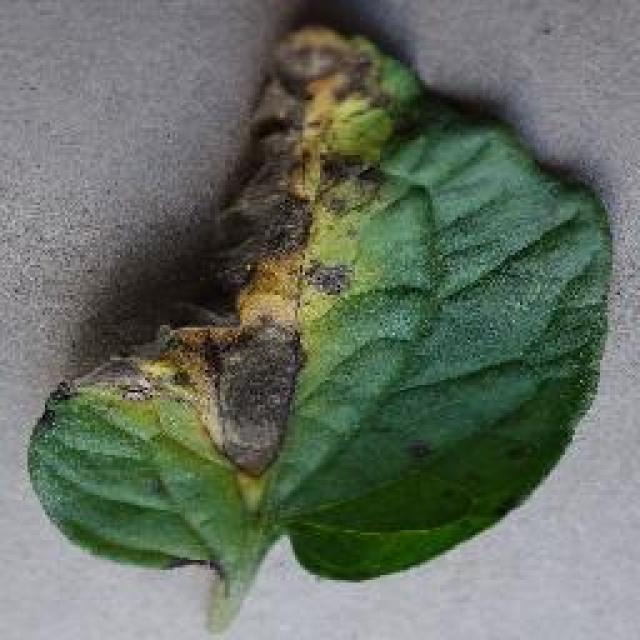Tomato___Early_blight: (19, 22, 618, 632)
